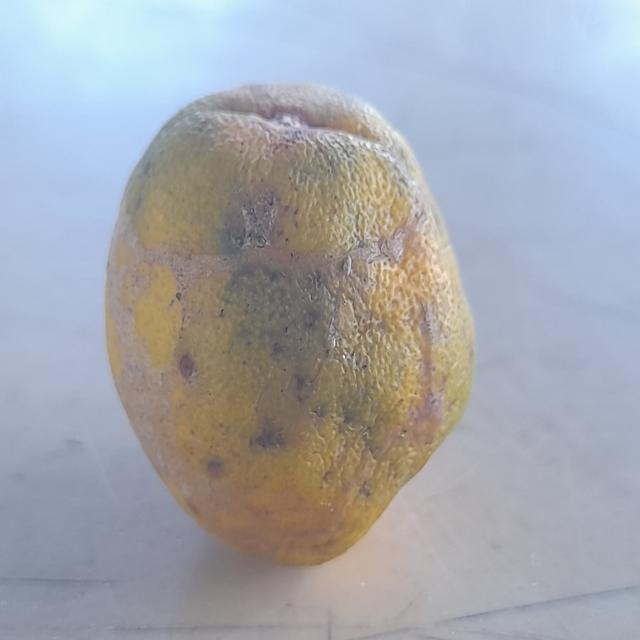black spot: (98, 84, 489, 579)
